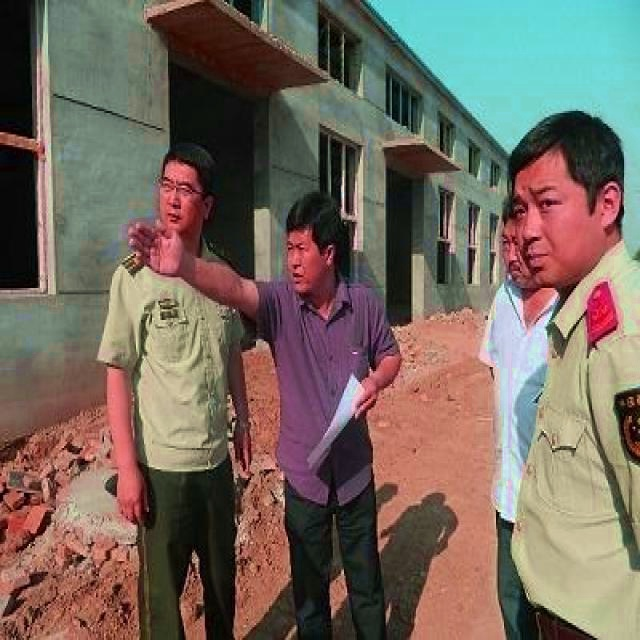Sin_Casco_Mascarrilla: (511, 111, 622, 273), (285, 192, 343, 292)
